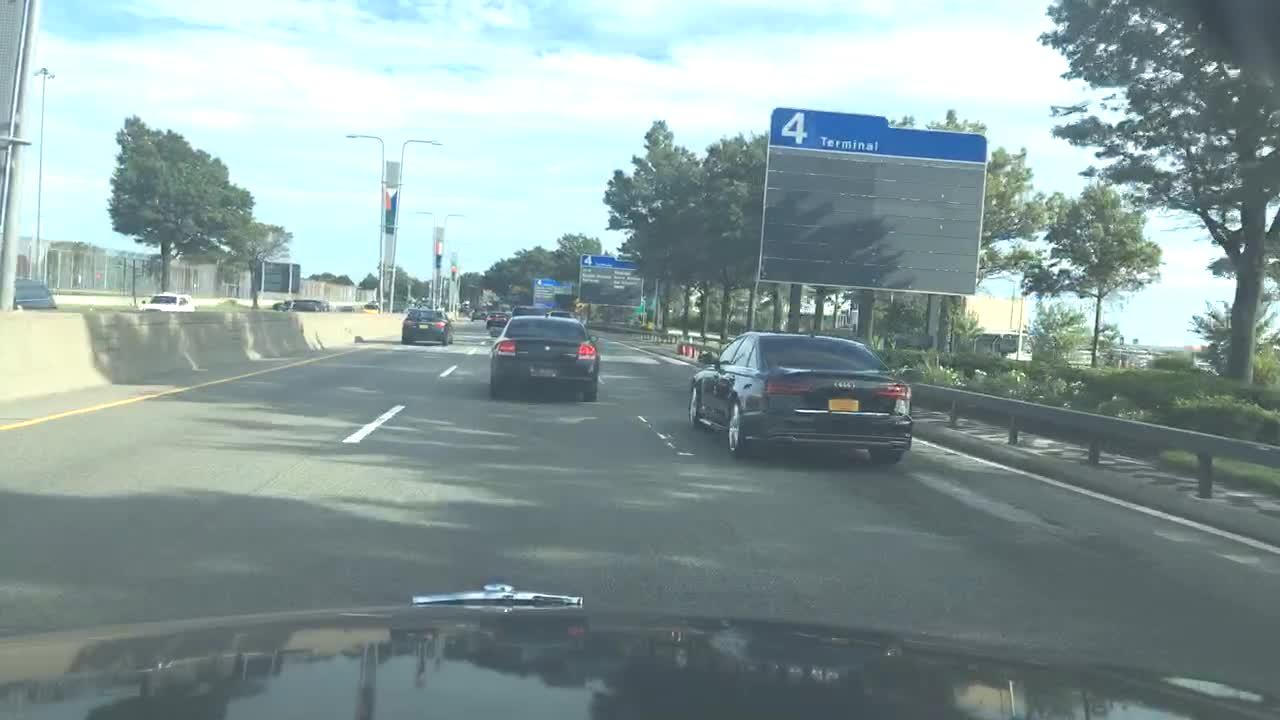Audi: (826, 376, 861, 391)
